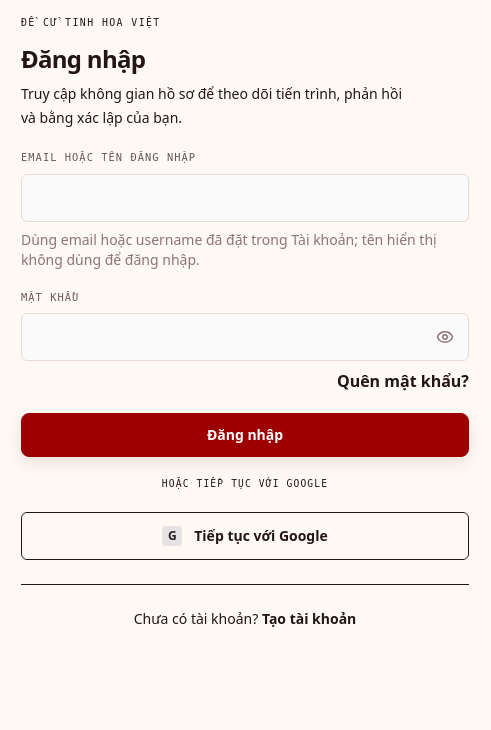
Test: LoginForm › explains when Firebase email sign-in is disabled
Type "owner@cnsgroup.vn" into the field labelled "Email hoặc tên đăng nhập" at (245, 198), box [21,174,469,222]
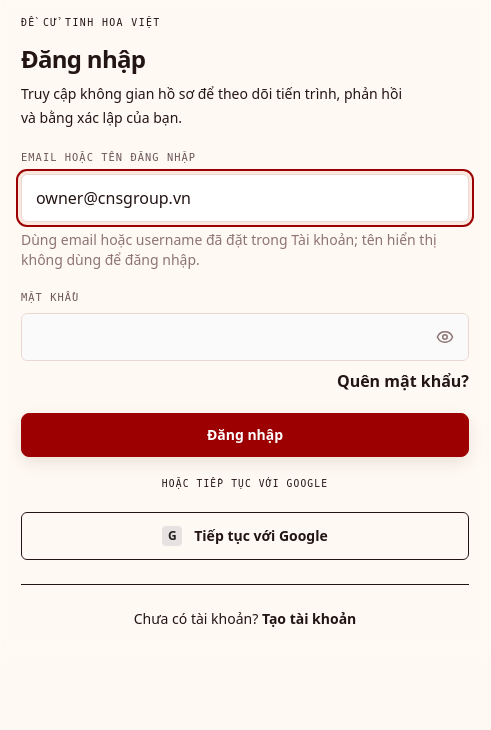
Type "valid password" into the password field labelled "Mật khẩu" at (245, 337), box [21,313,469,361]
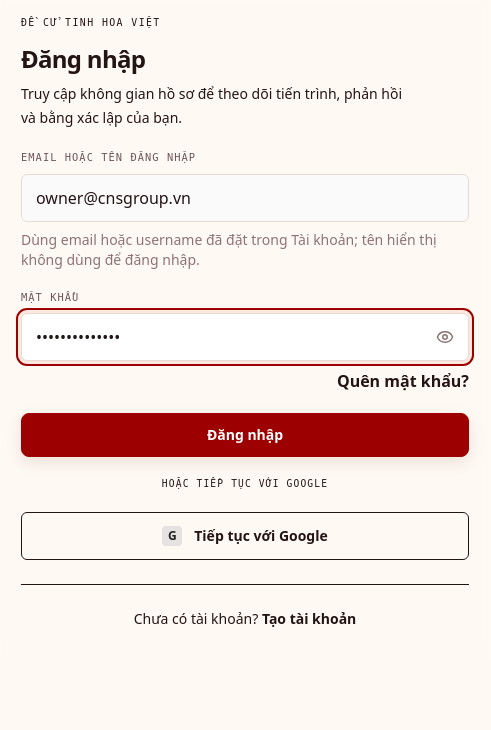
Click the button "Đăng nhập" at (245, 435), box [21,413,469,457]
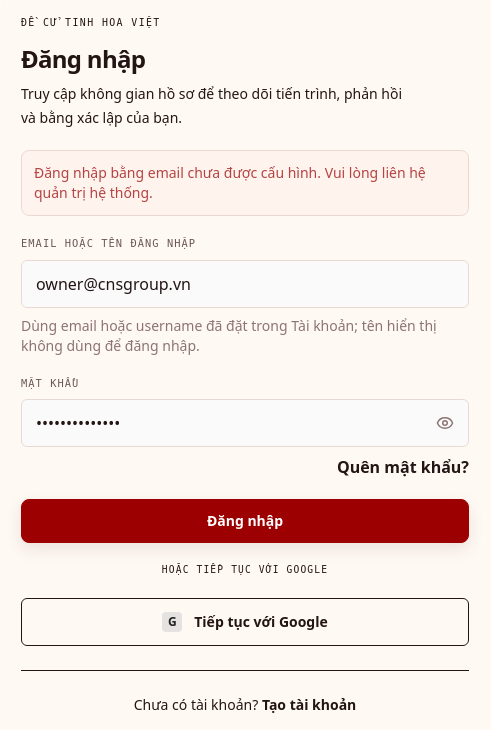
Check: the message shows "Đăng nhập bằng email chưa được cấu hình", box [34,163,426,202]
